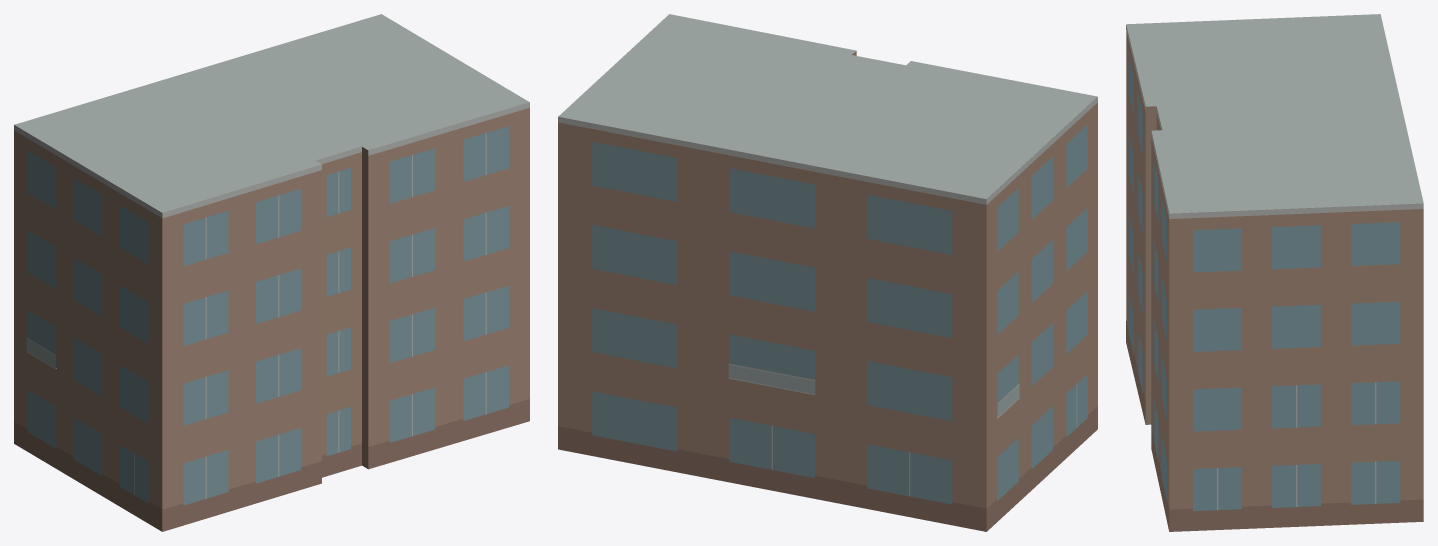
The model's file is survey-upis-32638637.glb.
The picture shows the model from 3 angles, left to right: view 1: azimuth 30°, elevation 25°; view 2: azimuth 150°, elevation 25°; view 3: azimuth 270°, elevation 25°; orthographic projection. The views are drawn at different scales.
Visible parts, largest first — view 1: survey-upis-32638637.tmp; view 2: survey-upis-32638637.tmp; view 3: survey-upis-32638637.tmp.
Boxes of the visible parts, x1,y1,x2,y2 form: survey-upis-32638637.tmp: (14,14,529,531); survey-upis-32638637.tmp: (558,14,1097,531); survey-upis-32638637.tmp: (1126,14,1423,531).
Size of the model in its own units: 19.11 by 14.2 by 12.05.
